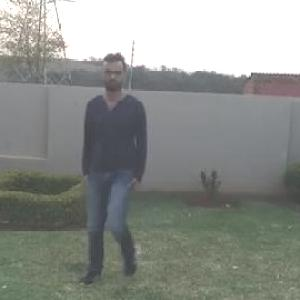follow: (78, 45, 149, 286)
